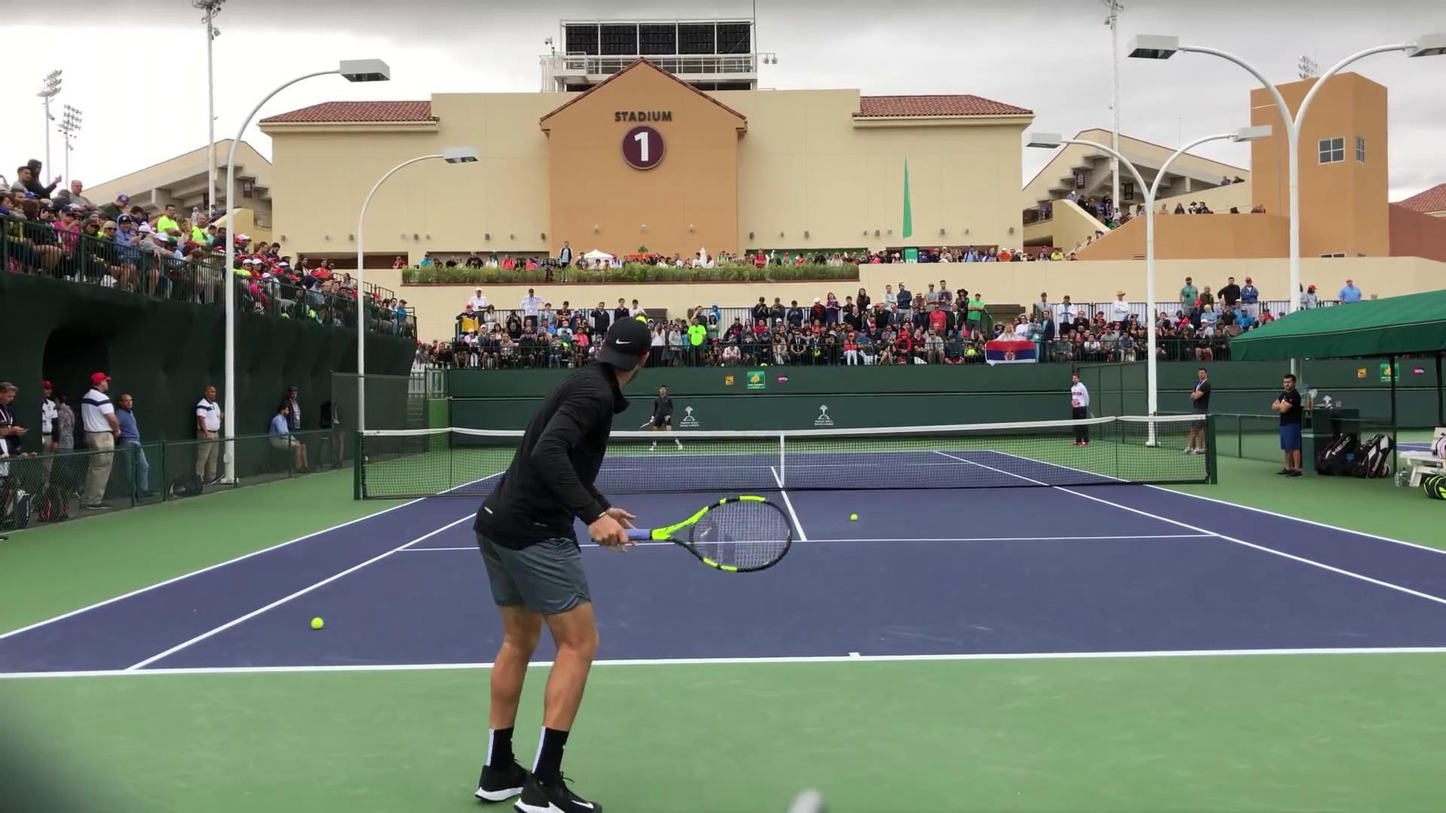ball: (310, 617, 324, 631), (850, 513, 858, 521)
